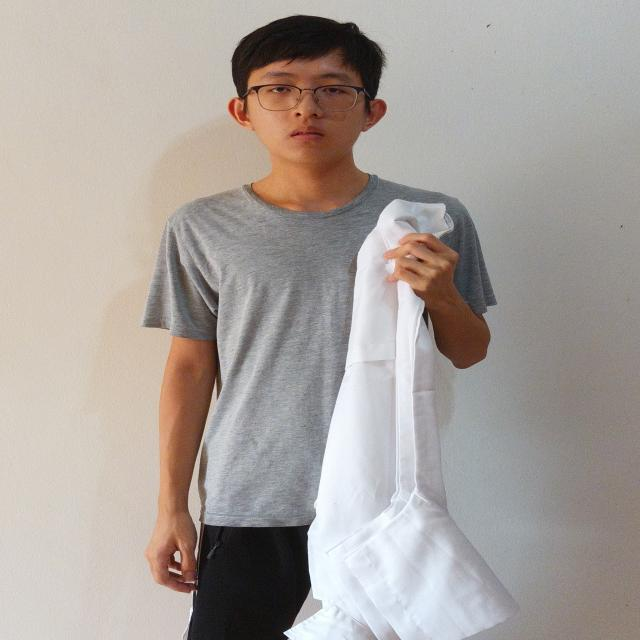person_without_labcoat: (142, 16, 518, 640)
